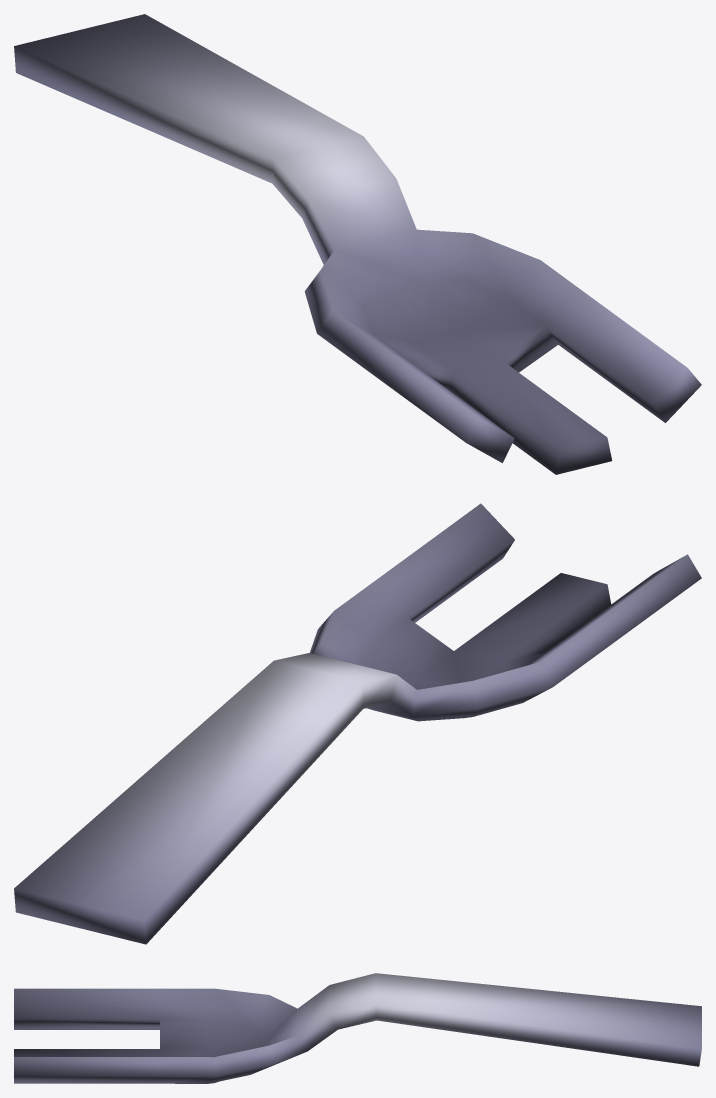
The model's file is m_CakeFork01.fbx.
The picture shows the model from 3 angles, top to bottom: view 1: azimuth 30°, elevation 25°; view 2: azimuth 150°, elevation 25°; view 3: azimuth 270°, elevation 25°; orthographic projection. The views are drawn at different scales.
Visible parts, largest first — view 1: m_CakeFork01; view 2: m_CakeFork01; view 3: m_CakeFork01.
Boxes of the visible parts, left/top/right/bottom form: m_CakeFork01: left=14, top=14, right=701, bottom=474; m_CakeFork01: left=14, top=503, right=701, bottom=944; m_CakeFork01: left=14, top=973, right=701, bottom=1083.
Size of the model in its own units: 4.28 by 2.18 by 15.88.
